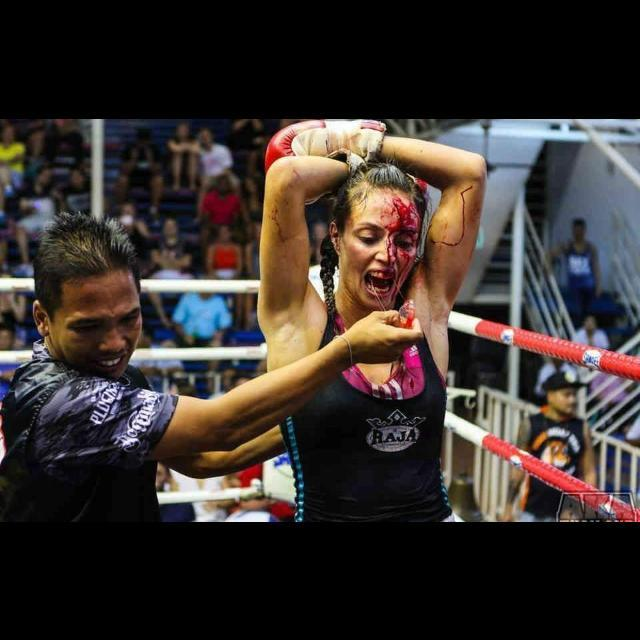blood: (382, 189, 423, 308), (431, 183, 473, 244), (270, 197, 287, 243)
